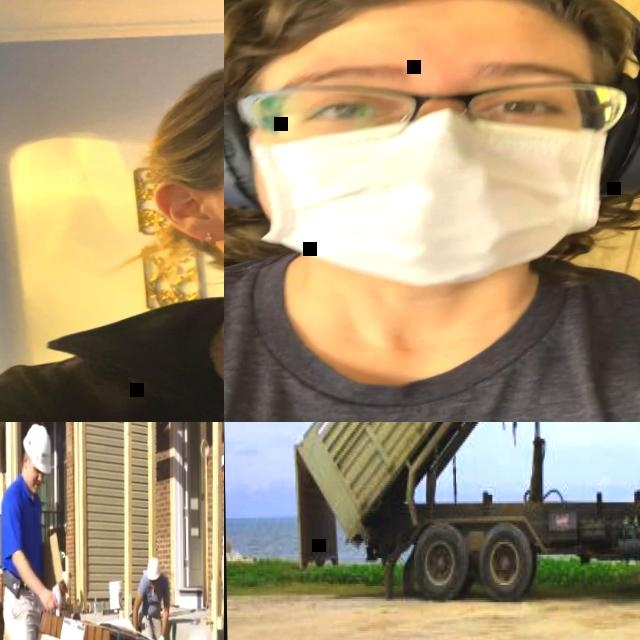Hardhat: (23, 425, 52, 475), (146, 555, 160, 579), (61, 571, 71, 591), (220, 452, 224, 467)
Mask: (250, 123, 615, 284)
NO-Hardhat: (224, 0, 640, 67), (166, 50, 224, 110)
NO-Mask: (26, 476, 40, 492), (150, 584, 156, 594), (220, 474, 224, 484)
NO-Safety Vest: (224, 266, 640, 422), (1, 485, 42, 591), (142, 577, 166, 623), (53, 584, 63, 615)
Person: (224, 0, 640, 422), (0, 47, 224, 422), (0, 424, 57, 640), (132, 555, 171, 640), (218, 454, 224, 622), (51, 571, 72, 613)
machinery: (288, 422, 640, 610)
